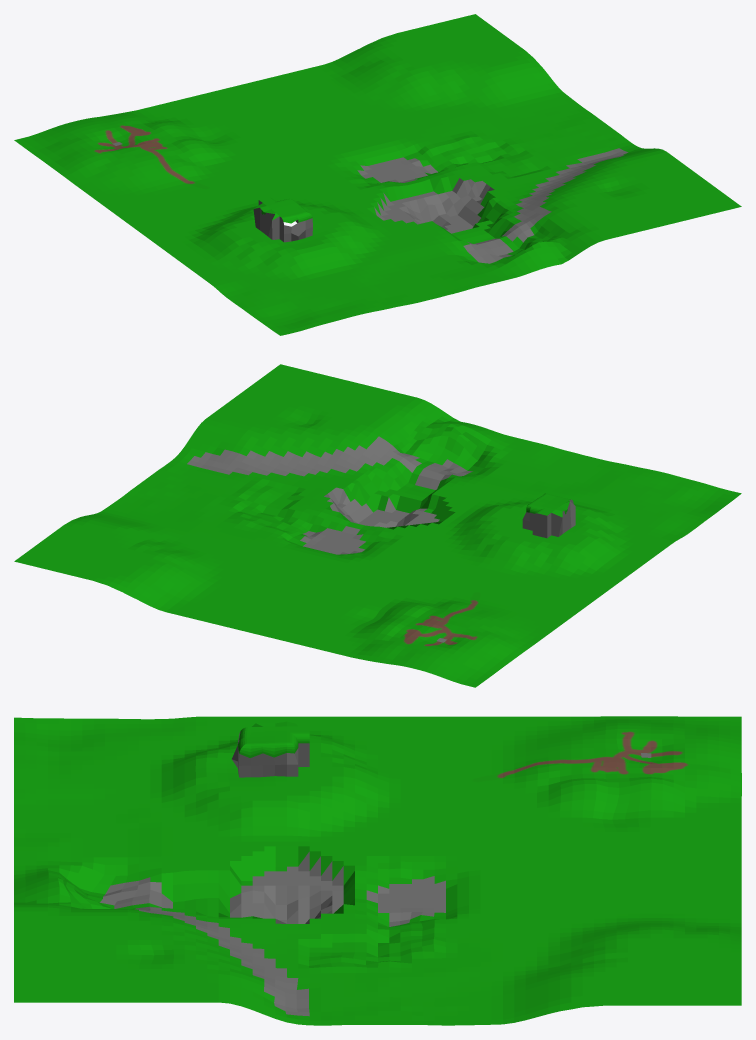
3 views of the same model, one above another, from view 1: azimuth 30°, elevation 25°; view 2: azimuth 150°, elevation 25°; view 3: azimuth 270°, elevation 25° (orthographic). The views are drawn at different scales.
Parts seen in each view (by area): view 1: Plane; view 2: Plane; view 3: Plane.
Part boxes in pixels (x1,y1,x2,y2): Plane: (14, 14, 741, 335); Plane: (14, 364, 741, 687); Plane: (14, 716, 741, 1025).
Size of the model in its own units: 21314 by 2878 by 21320.
2 materials, 1 textured.
